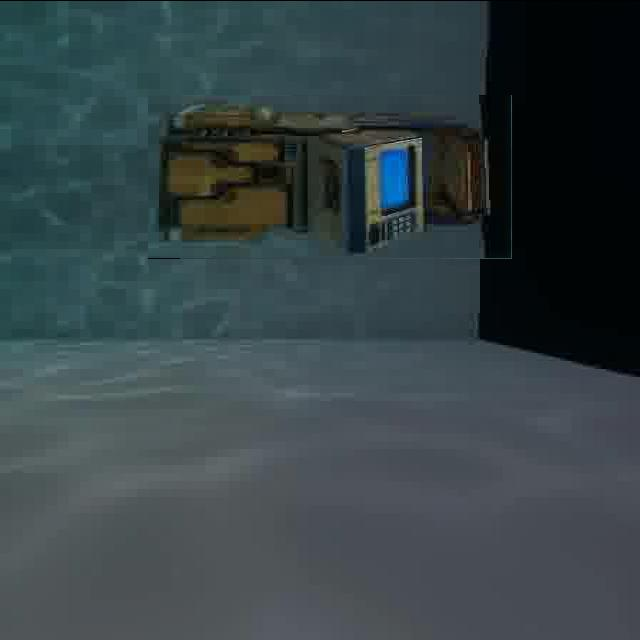Control Panel: (148, 94, 512, 258)
